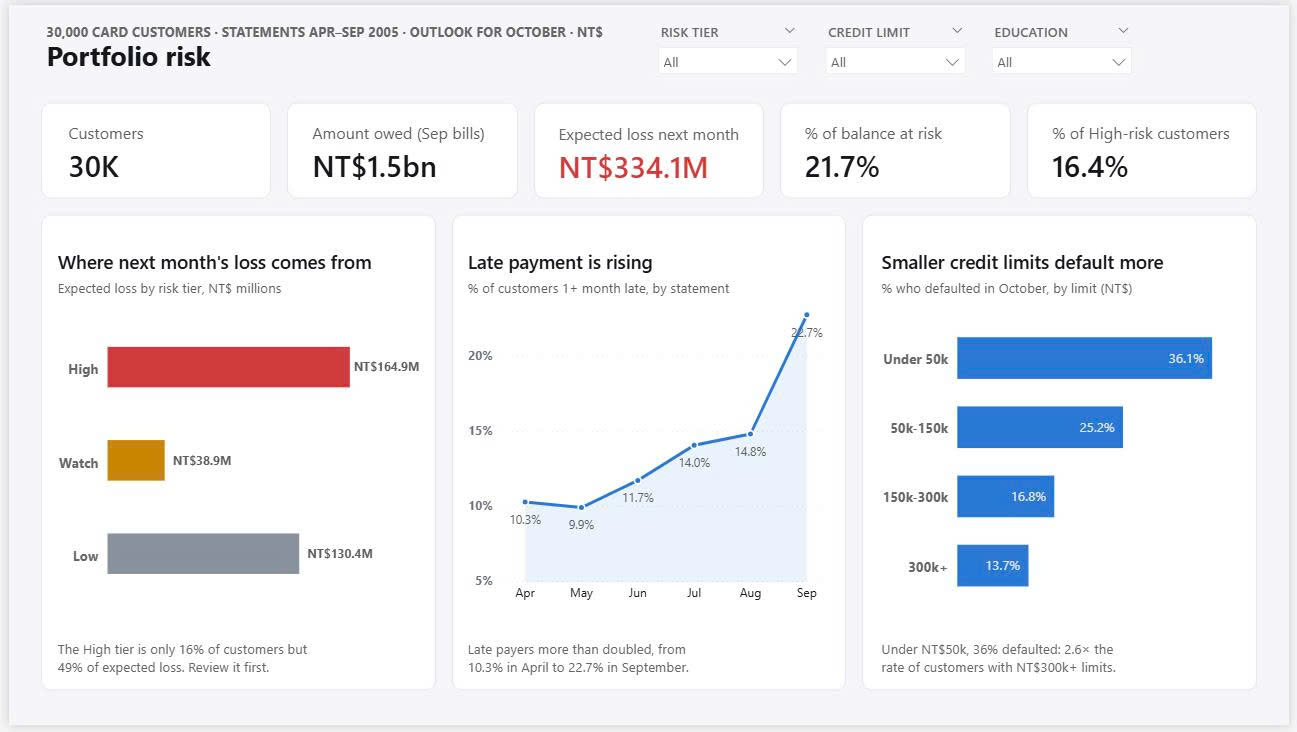

The dashboard page shown, as its layout file describes it:
{"tool":"powerbi","page":{"name":"Portfolio risk","canvas":[1280,720],"ordinal":0},"visuals":[{"type":"textbox","box":[32,28,400,50],"z":0},{"type":"textbox","box":[43.7,629.6,284.5,50.7],"z":1000},{"type":"cardVisual","fields":{"Data":["Risk.Customer Count"]},"box":[42.4,108,214,80],"z":2000},{"type":"cardVisual","fields":{"Data":["Statements.Amount Owed"]},"box":[286,108,214,80],"z":3000},{"type":"cardVisual","fields":{"Data":["Risk.Expected Loss"]},"box":[532.9,108.6,230,80],"z":4000},{"type":"cardVisual","fields":{"Data":["Risk.Loss Rate"]},"box":[779,108,214,80],"z":5000},{"type":"cardVisual","fields":{"Data":["Risk.High Tier Share"]},"box":[1026,108,214,80],"z":6000},{"type":"clusteredBarChart","title":"Where next month''s loss comes from","fields":{"Category":["Customers.risk_tier"],"Y":["Risk.Expected Loss"]},"box":[43.7,243.7,371.8,373.2],"z":7000},{"type":"lineChart","title":"Late payment is rising","fields":{"Category":["Statements.month"],"Y":["Risk.Late Share"]},"box":[453.5,243.7,371.8,362],"z":8000},{"type":"textbox","box":[453.5,629.6,266.2,50.7],"z":9000},{"type":"clusteredBarChart","title":"Smaller credit limits default more","fields":{"Y":["Risk.Default Rate"],"Category":["Customers.limit_band"]},"box":[867.6,243.7,340.8,373.2],"z":10000},{"type":"slicer","fields":{"Values":["Customers.risk_tier"]},"box":[639.3,12.1,160,60],"z":11000},{"type":"slicer","fields":{"Values":["Customers.limit_band"]},"box":[805.7,12.9,160,60],"z":12000},{"type":"slicer","fields":{"Values":["Customers.education"]},"box":[972.9,12.9,160,60],"z":13000},{"type":"textbox","box":[867.6,629.6,266.2,50.7],"z":14000},{"type":"textbox","box":[32.4,12.7,567.6,50.7],"z":15000}]}

Visuals, with their boxes in screenshot pixels (x1, y1, x2, y2), scaled from the page's 1280x720 canvas onto the 1297x732 screenshot:
textbox: {"x1": 32, "y1": 28, "x2": 438, "y2": 79}
textbox: {"x1": 44, "y1": 640, "x2": 333, "y2": 692}
cardVisual - Risk.Customer Count: {"x1": 43, "y1": 110, "x2": 260, "y2": 191}
cardVisual - Statements.Amount Owed: {"x1": 290, "y1": 110, "x2": 507, "y2": 191}
cardVisual - Risk.Expected Loss: {"x1": 540, "y1": 110, "x2": 773, "y2": 192}
cardVisual - Risk.Loss Rate: {"x1": 789, "y1": 110, "x2": 1006, "y2": 191}
cardVisual - Risk.High Tier Share: {"x1": 1040, "y1": 110, "x2": 1256, "y2": 191}
"Where next month''s loss comes from" clusteredBarChart: {"x1": 44, "y1": 248, "x2": 421, "y2": 627}
"Late payment is rising" lineChart: {"x1": 460, "y1": 248, "x2": 836, "y2": 616}
textbox: {"x1": 460, "y1": 640, "x2": 729, "y2": 692}
"Smaller credit limits default more" clusteredBarChart: {"x1": 879, "y1": 248, "x2": 1224, "y2": 627}
slicer - Customers.risk_tier: {"x1": 648, "y1": 12, "x2": 810, "y2": 73}
slicer - Customers.limit_band: {"x1": 816, "y1": 13, "x2": 979, "y2": 74}
slicer - Customers.education: {"x1": 986, "y1": 13, "x2": 1148, "y2": 74}
textbox: {"x1": 879, "y1": 640, "x2": 1149, "y2": 692}
textbox: {"x1": 33, "y1": 13, "x2": 608, "y2": 64}
